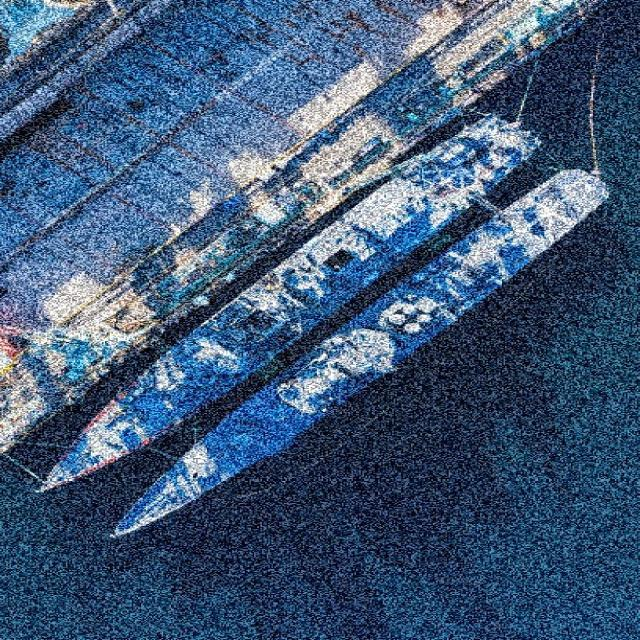ship2: (43, 111, 555, 488), (107, 170, 590, 540)
